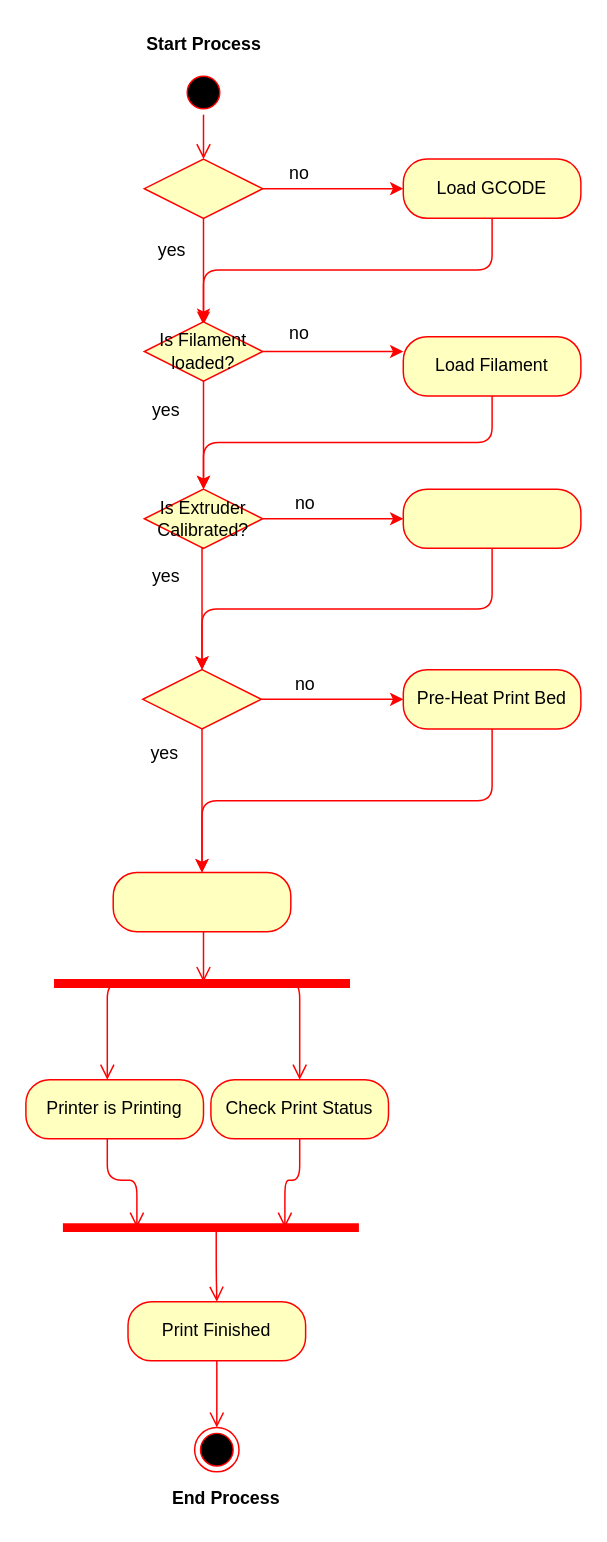
The diagram is 607 pixels wide and 1542 high, and some of its shapes have lost their labels. Here are the shapes that lost their labels. From the top down, the box of each, then its label:
(143, 158, 263, 218): Is GCODE loaded?
(402, 488, 581, 548): Calibrate Extruder
(141, 668, 261, 729): Need to Preheat Bed?
(112, 871, 291, 932): Start Print Job
